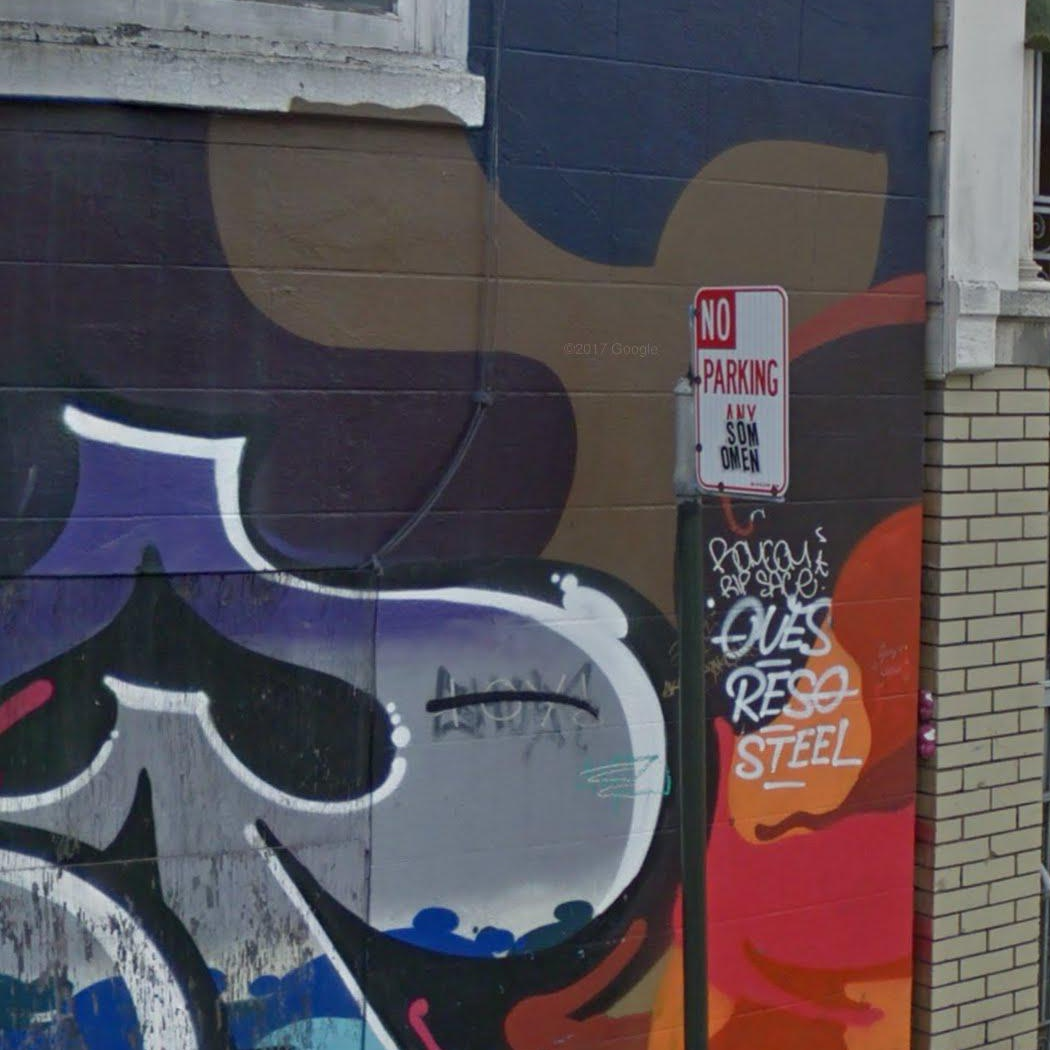No Parking Anytime: (689, 283, 791, 501)
